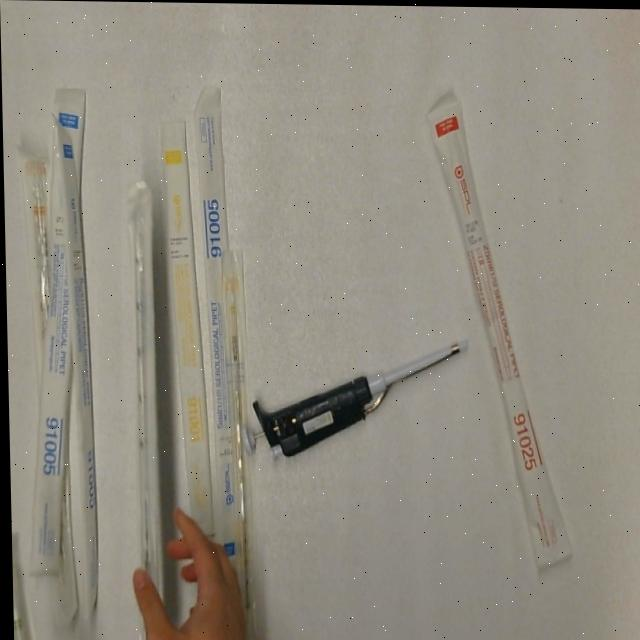Serelogical Pipet 1 mL: (156, 114, 213, 541), (219, 247, 263, 637)
Serelogical Pipet 10 mL: (22, 148, 59, 404)
Serelogical Pipet 25 mL: (425, 90, 572, 575)
Serelogical Pipet 5 mL: (17, 83, 97, 578), (191, 85, 242, 591), (52, 117, 98, 623), (126, 177, 161, 640)
Single Channel Pipettor: (232, 329, 475, 475)
